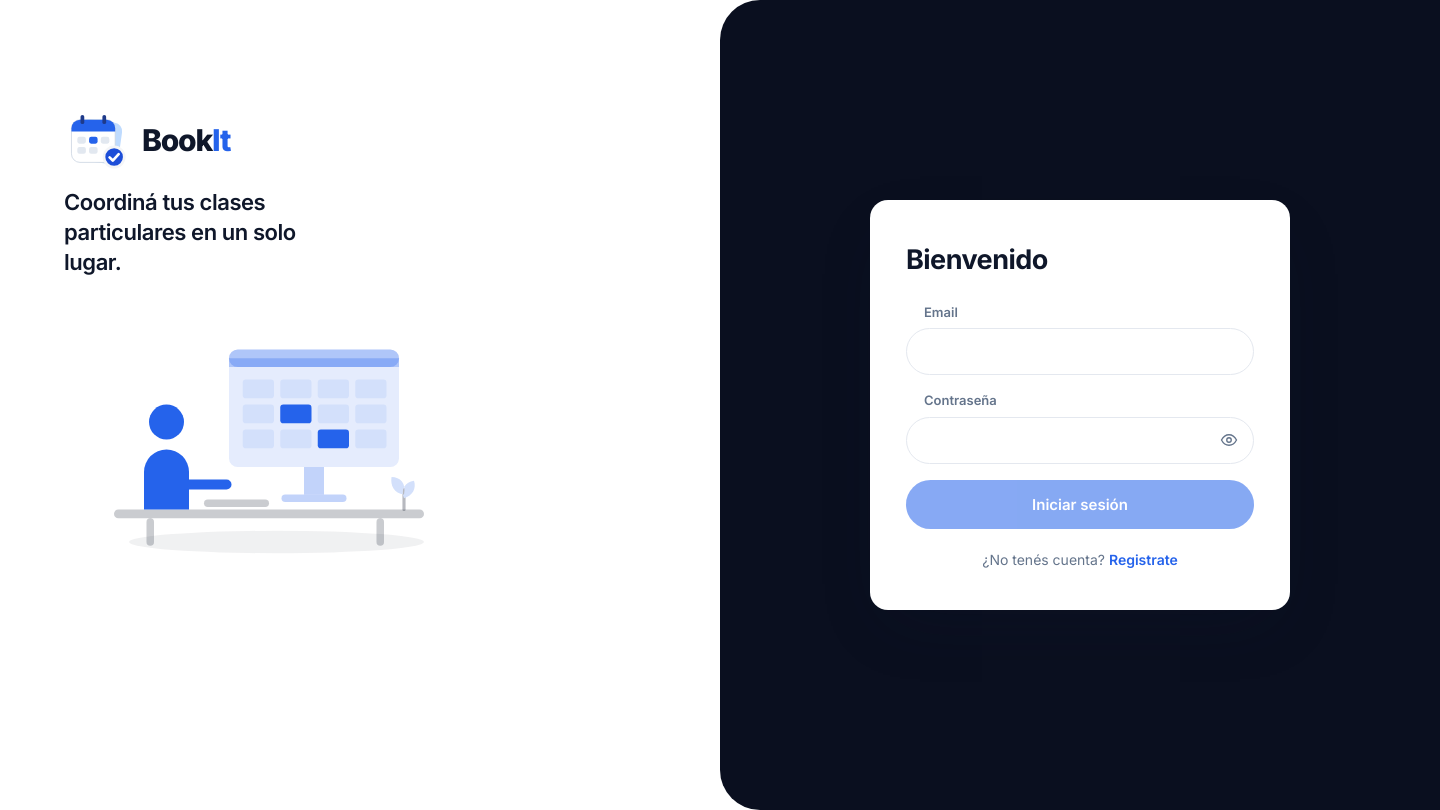
Scenario: App › el perfil muestra los datos del usuario logueado
In the field labelled "Email": (1080, 352) x1=906 y1=328 x2=1254 y2=375, type "agustin@example.com"
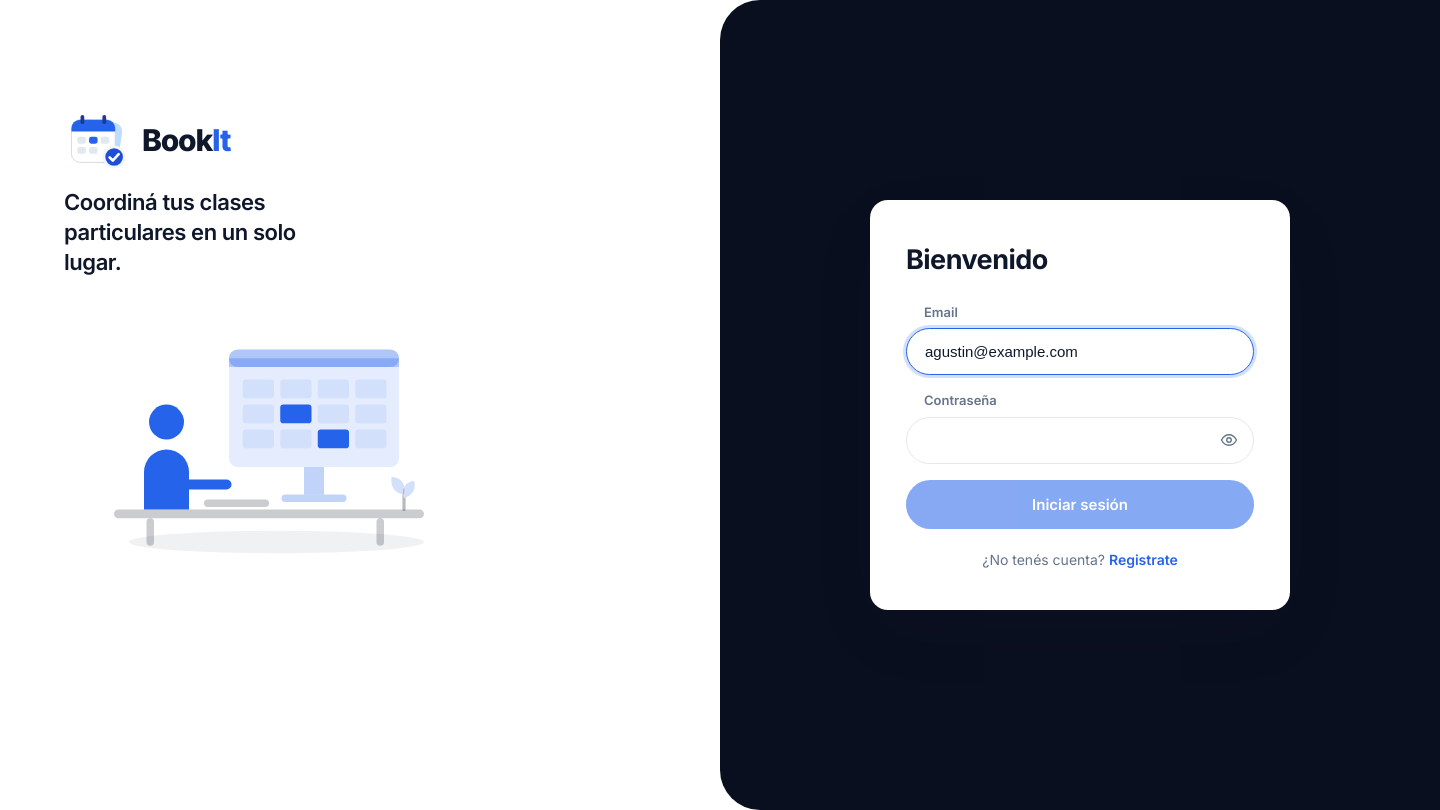
In the password field labelled "Contraseña": (1080, 440) x1=906 y1=417 x2=1254 y2=464, type "secreta123"
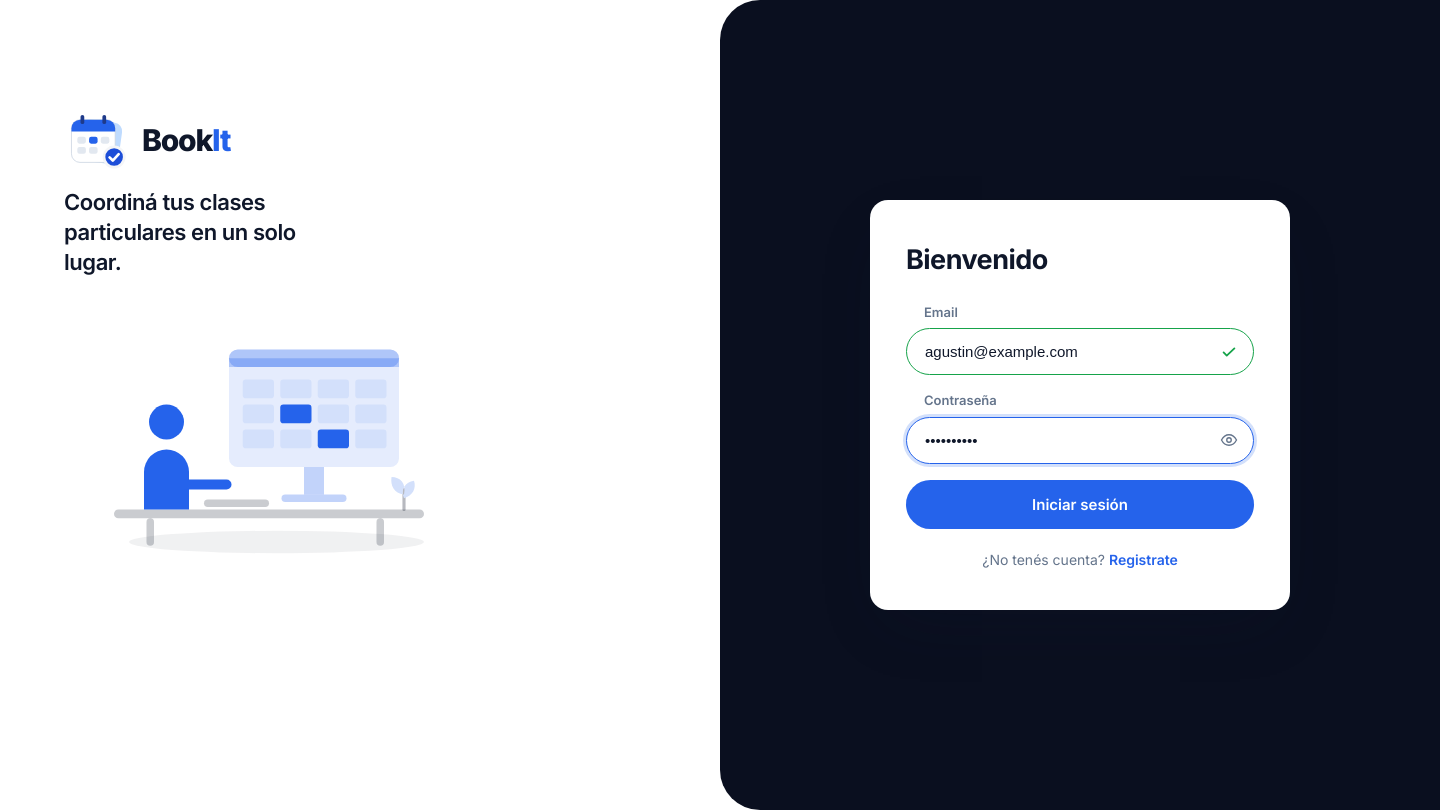
Click the button "Iniciar sesión": click(1080, 504) x1=906 y1=480 x2=1254 y2=529
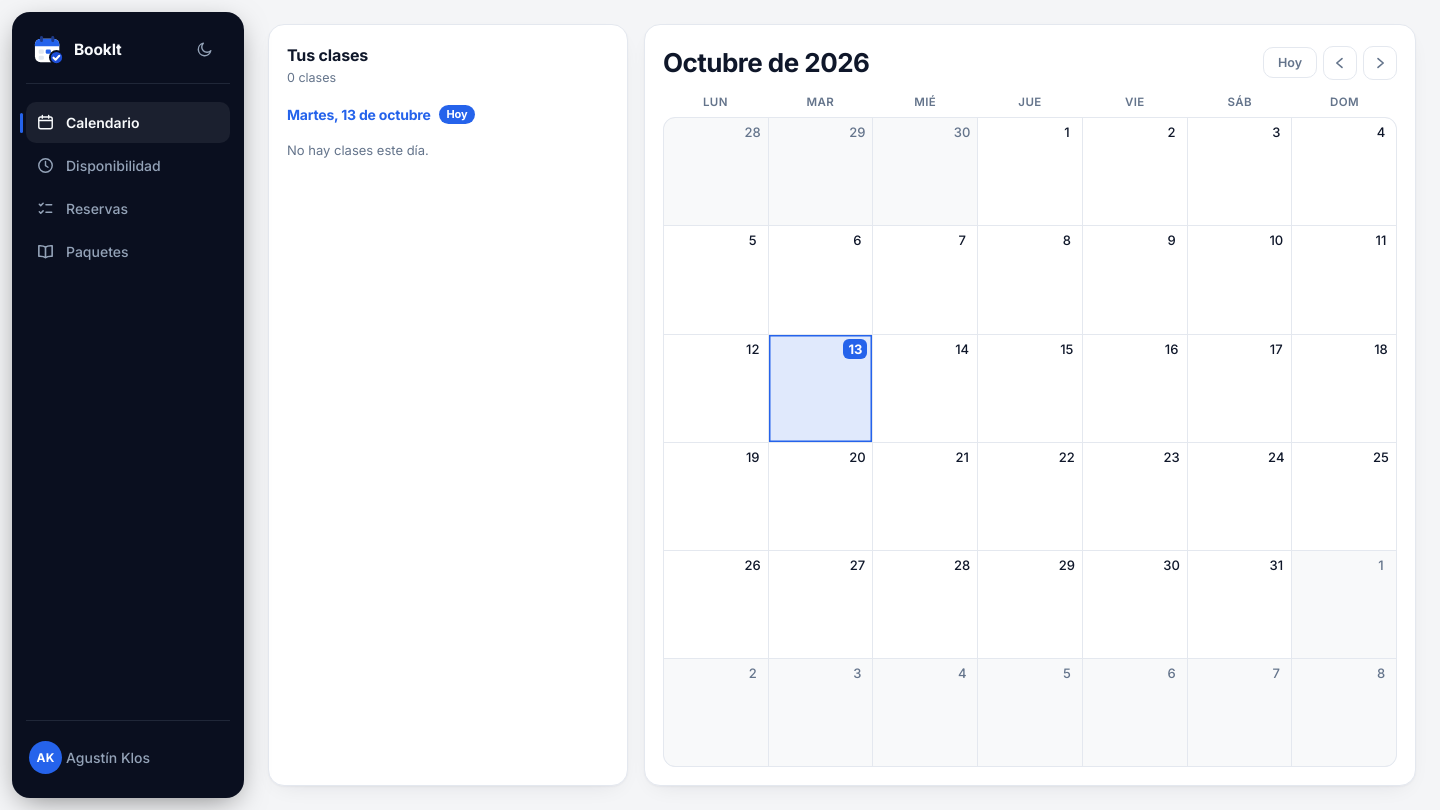
Click the link with aria-label "Mi perfil": click(90, 758) x1=29 y1=741 x2=150 y2=774
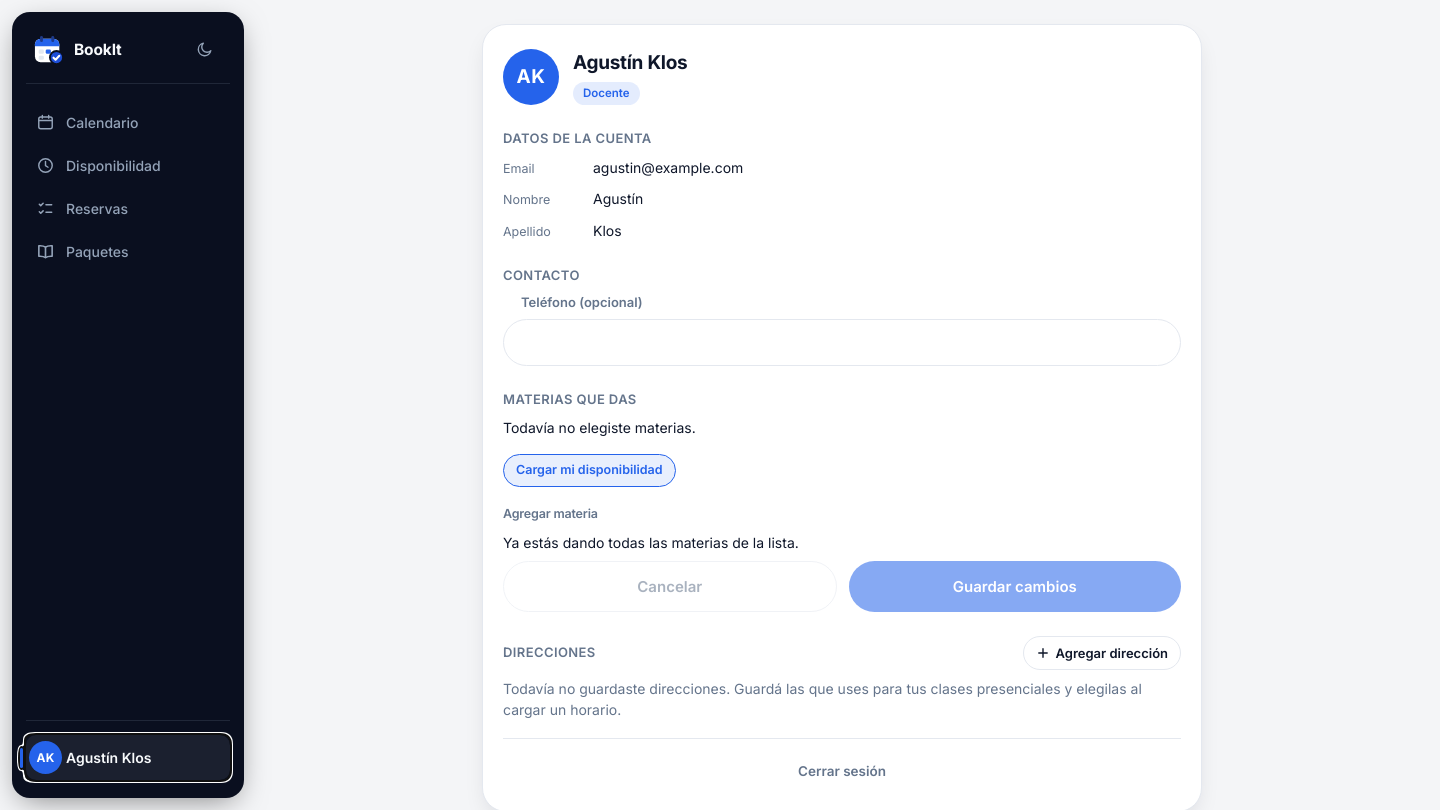
Result: the heading "Agustín Klos" is shown at x1=573 y1=49 x2=687 y2=78
